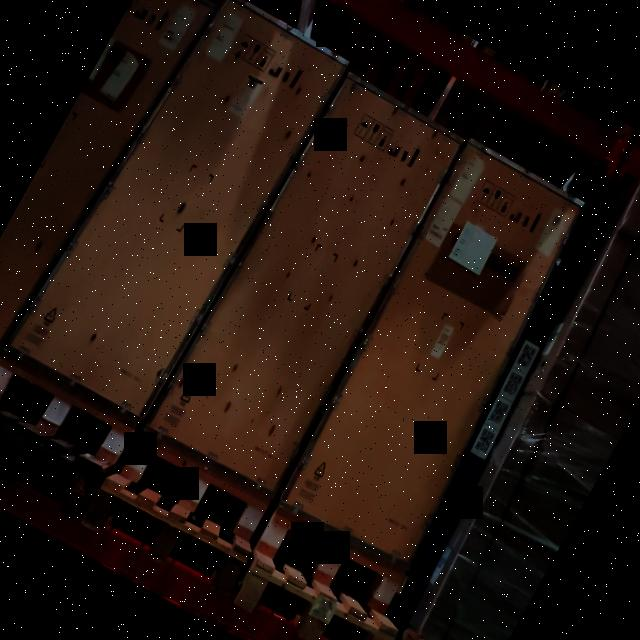box: (27, 0, 343, 424), (148, 77, 464, 500), (278, 143, 586, 565)
